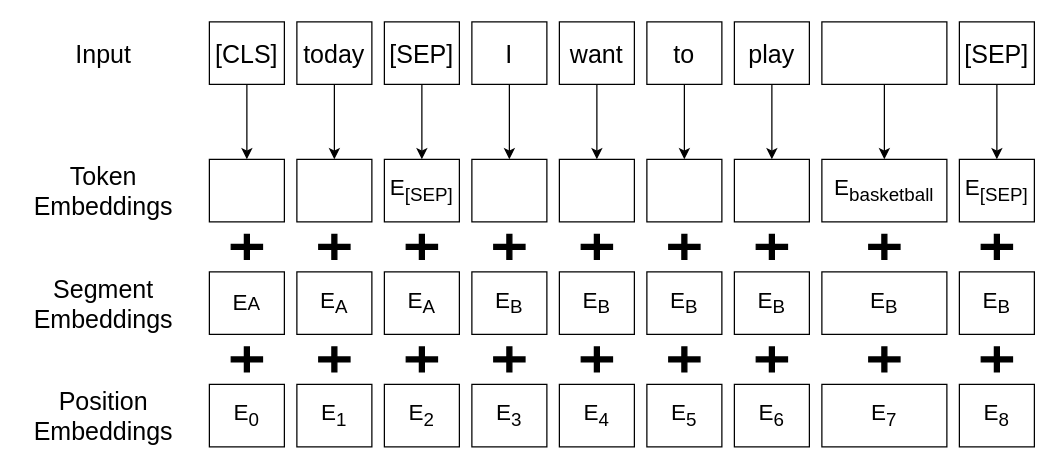
This 1056x469 diagram has some shape labels left out. Here are the shapes that lost their labels. From the top down, the centre of each, then its label:
At point 884,52: "basketball".
At point 246,190: "E [CLS]".
At point 334,190: "E today".
At point 509,190: "E I".
At point 596,190: "E want".
At point 684,190: "E to".
At point 771,190: "E play".
